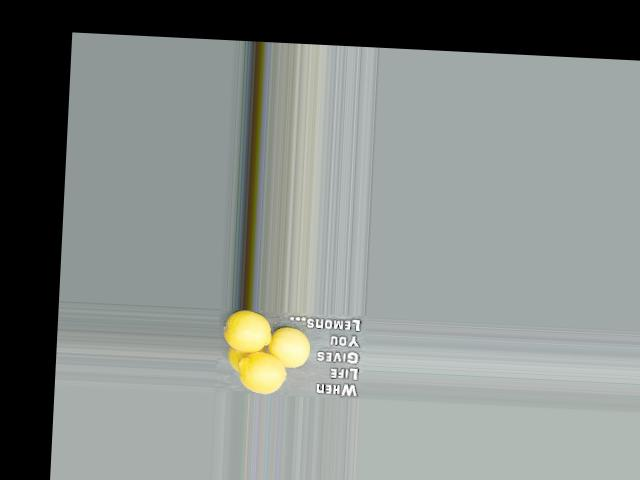lemon: (223, 312, 275, 352)
